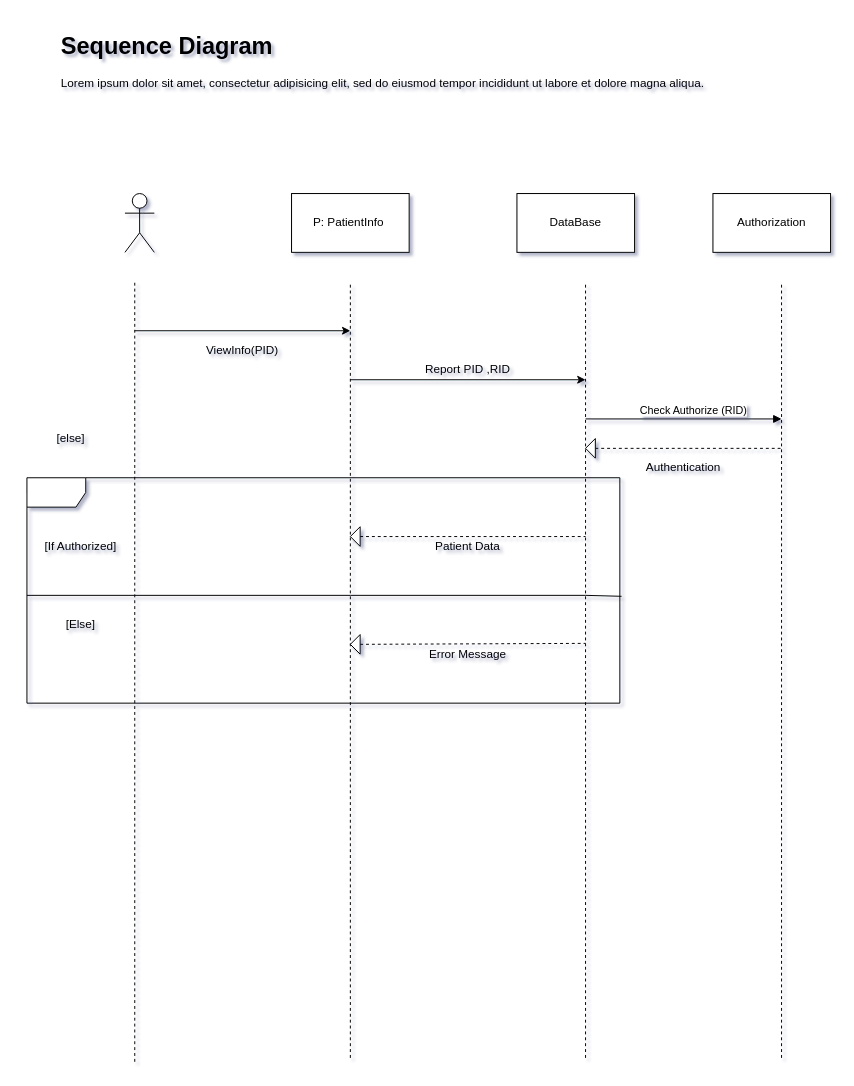
The diagram is 854 pixels wide and 1086 high, and some of its shapes have lost their labels. Here are the shapes that lost their labels. From the top down, the box of each, then its label:
(124, 193, 154, 252): Medical Receptionist
(26, 477, 620, 703): Alternative
